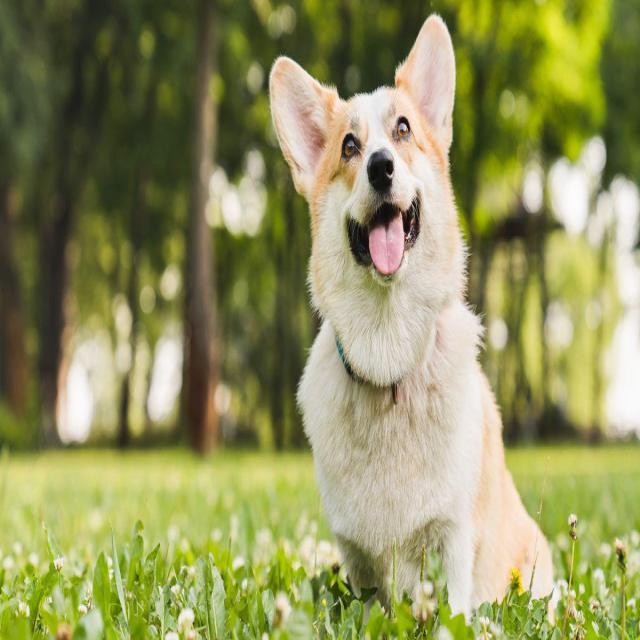Dog: (264, 9, 477, 344)
